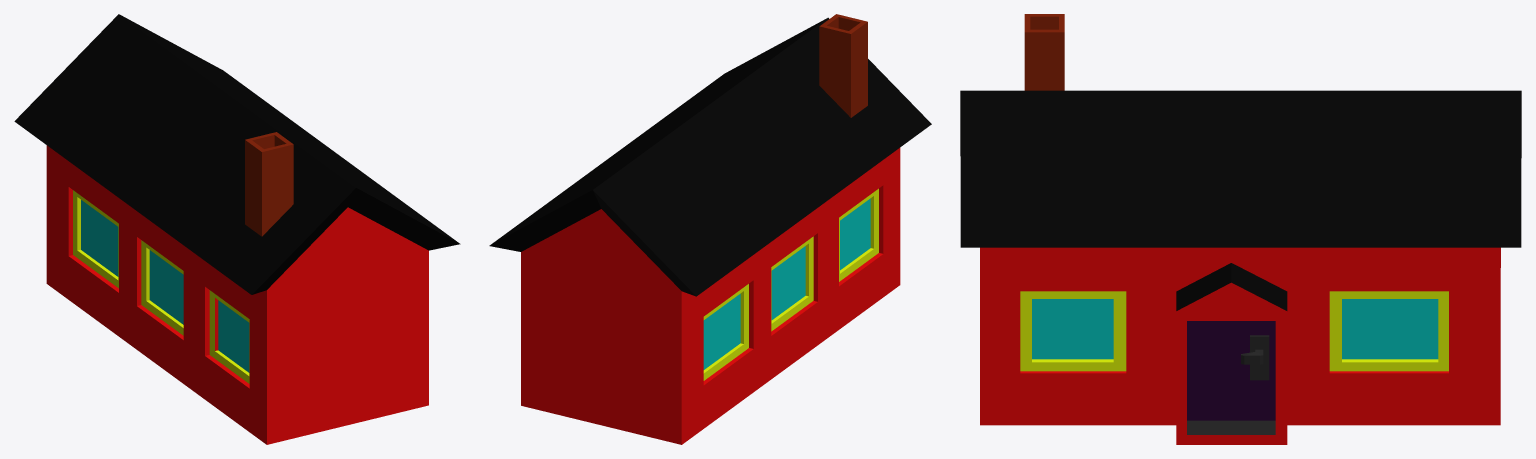
Rendered from Village_House_1.fbx.
3 renders of one model, left to right at view 1: azimuth 30°, elevation 25°; view 2: azimuth 150°, elevation 25°; view 3: azimuth 270°, elevation 25°, orthographic. The views are drawn at different scales.
Parts seen in each view (by area): view 1: Village_House_1; view 2: Village_House_1; view 3: Village_House_1.
Part boxes in pixels (x1,y1,x2,y2): Village_House_1: (14,14,460,444); Village_House_1: (489,14,931,444); Village_House_1: (960,14,1521,444).
Bounding box in the file's own units: 443 × 530 × 828.
